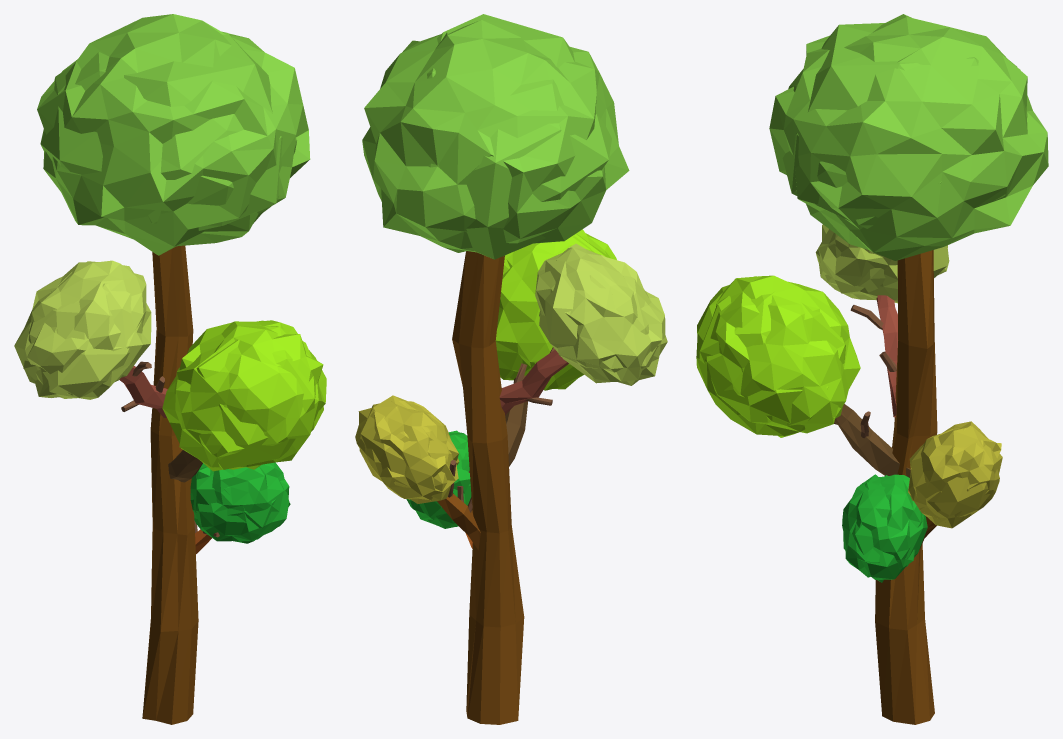
File: TallTree2.fbx
3 renders of one model, left to right at view 1: azimuth 30°, elevation 25°; view 2: azimuth 150°, elevation 25°; view 3: azimuth 270°, elevation 25°, orthographic.
Visible parts, largest first — view 1: GeneratedLeaves, GeneratedBranch, GeneratedLeaves_2, LOD_Test_4, GeneratedLeaves_3, GeneratedLeaves_1, LOD_Test_2, LOD_Test_1, LOD_Test, GeneratedBranch_3, GeneratedBranch_2; view 2: GeneratedLeaves, GeneratedBranch, LOD_Test_4, GeneratedLeaves_3, GeneratedLeaves_2, GeneratedLeaves_4, LOD_Test_2, LOD_Test_3, GeneratedBranch_3, GeneratedLeaves_1, GeneratedBranch_4, GeneratedBranch_2 (+1 smaller); view 3: GeneratedLeaves, GeneratedLeaves_2, GeneratedBranch, LOD_Test_4, LOD_Test_1, GeneratedLeaves_1, GeneratedLeaves_4, LOD_Test_3, GeneratedLeaves_3, LOD_Test, GeneratedBranch_2, GeneratedBranch_3 (+1 smaller).
Boxes of the visible parts, left/top/right/bottom form: GeneratedLeaves: left=37, top=14, right=310, bottom=255; GeneratedBranch: left=142, top=245, right=198, bottom=724; GeneratedLeaves_2: left=162, top=320, right=326, bottom=471; LOD_Test_4: left=40, top=31, right=297, bottom=230; GeneratedLeaves_3: left=14, top=260, right=151, bottom=399; GeneratedLeaves_1: left=190, top=462, right=290, bottom=543; LOD_Test_2: left=23, top=261, right=142, bottom=398; LOD_Test_1: left=174, top=320, right=323, bottom=469; LOD_Test: left=190, top=463, right=289, bottom=539; GeneratedBranch_3: left=119, top=366, right=167, bottom=417; GeneratedBranch_2: left=168, top=450, right=202, bottom=482; GeneratedLeaves: left=362, top=20, right=629, bottom=256; GeneratedBranch: left=452, top=251, right=524, bottom=724; LOD_Test_4: left=387, top=14, right=611, bottom=259; GeneratedLeaves_3: left=535, top=243, right=665, bottom=385; GeneratedLeaves_2: left=495, top=229, right=616, bottom=390; GeneratedLeaves_4: left=355, top=401, right=459, bottom=501; LOD_Test_2: left=539, top=254, right=667, bottom=383; LOD_Test_3: left=359, top=395, right=456, bottom=503; GeneratedBranch_3: left=499, top=349, right=568, bottom=415; GeneratedLeaves_1: left=406, top=432, right=470, bottom=528; GeneratedBranch_4: left=437, top=493, right=480, bottom=550; GeneratedBranch_2: left=468, top=375, right=527, bottom=472; GeneratedLeaves: left=769, top=14, right=1048, bottom=260; GeneratedLeaves_2: left=696, top=275, right=860, bottom=437; GeneratedBranch: left=875, top=250, right=937, bottom=724; LOD_Test_4: left=782, top=23, right=1027, bottom=228; LOD_Test_1: left=699, top=276, right=845, bottom=433; GeneratedLeaves_1: left=842, top=474, right=922, bottom=582; GeneratedLeaves_4: left=908, top=421, right=1001, bottom=528; LOD_Test_3: left=909, top=426, right=1002, bottom=522; GeneratedLeaves_3: left=818, top=224, right=949, bottom=300; LOD_Test: left=843, top=482, right=927, bottom=579; GeneratedBranch_2: left=834, top=404, right=910, bottom=477; GeneratedBranch_3: left=876, top=295, right=897, bottom=417.
Size of what is drawn, in the model's own units: 911 by 2170 by 1008.
